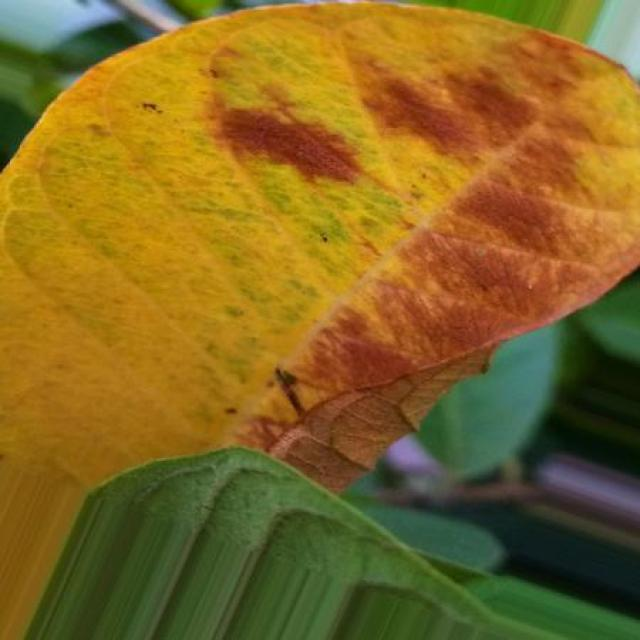Red Rust: (0, 5, 638, 486)
